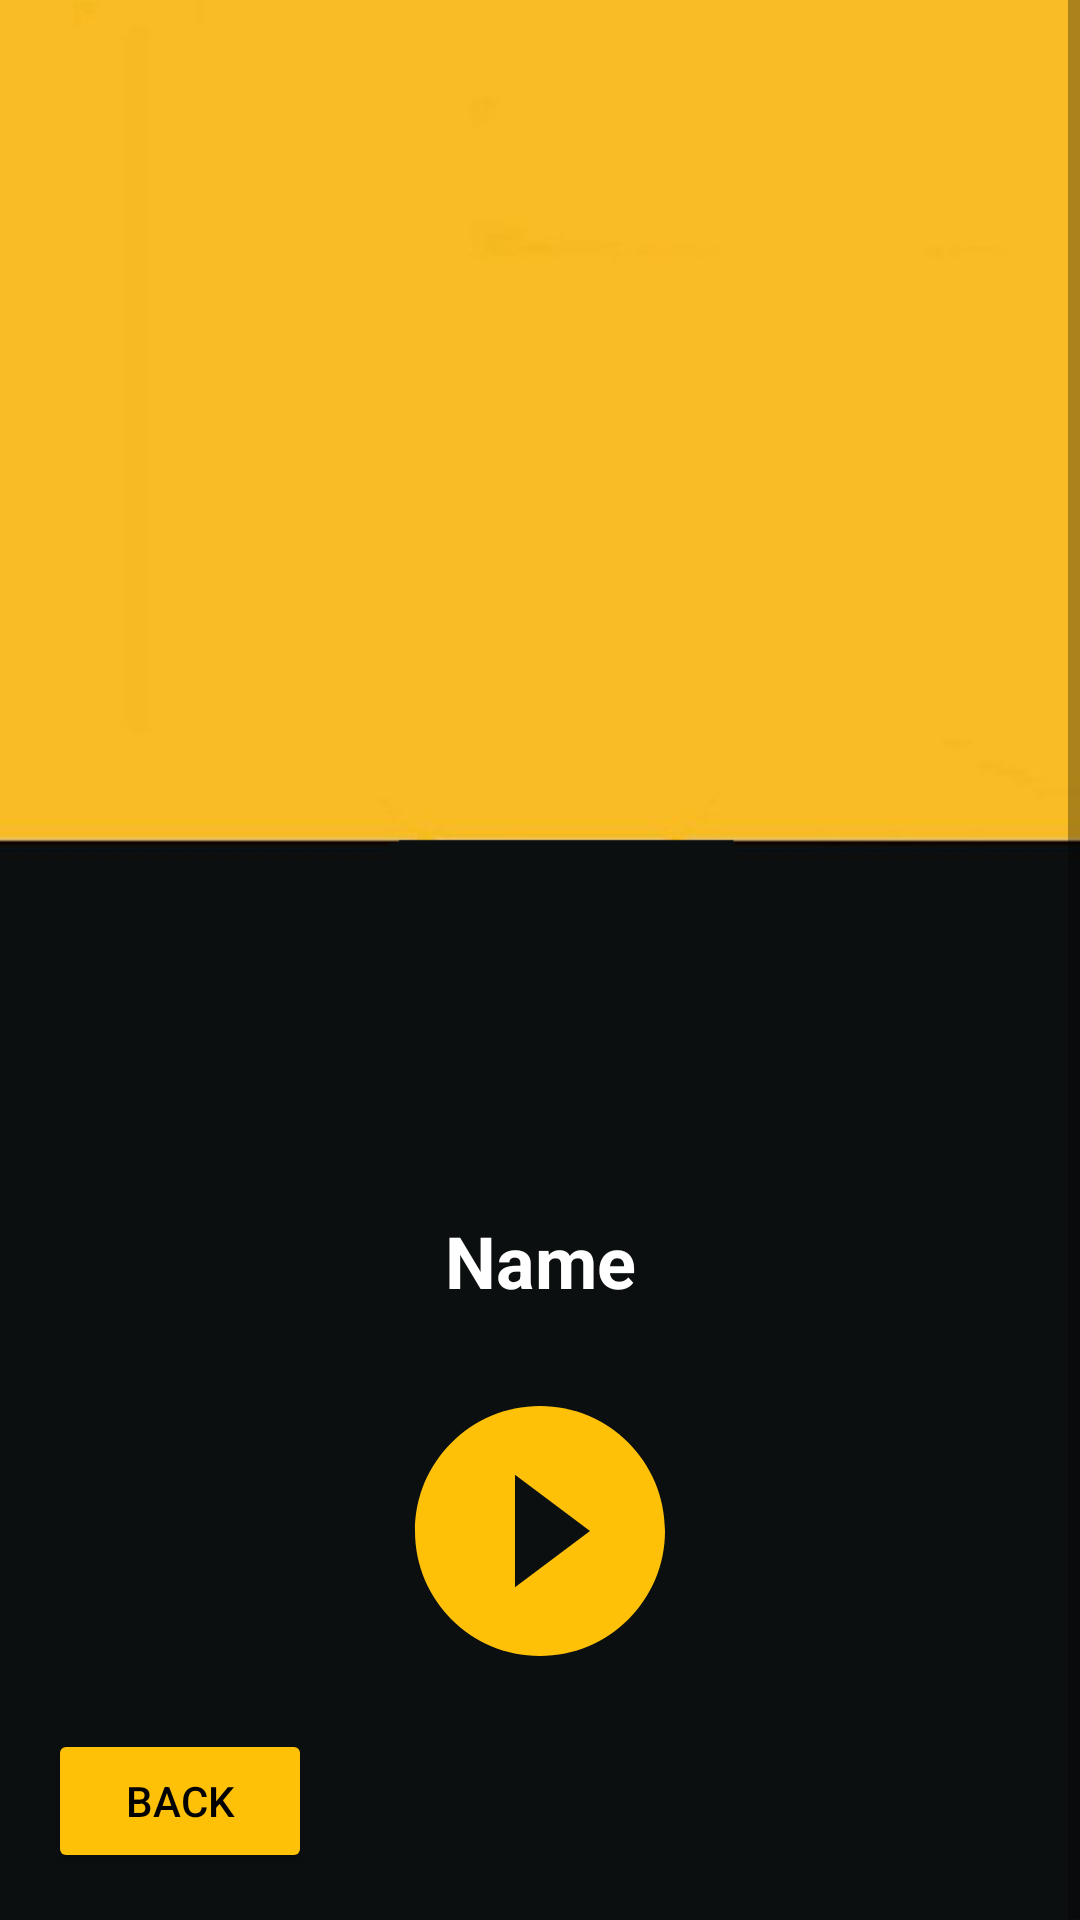

Icons on this 1080 × 1920 Android screen, each with the point to tap as point (x, y):
play: point (540, 1531)
